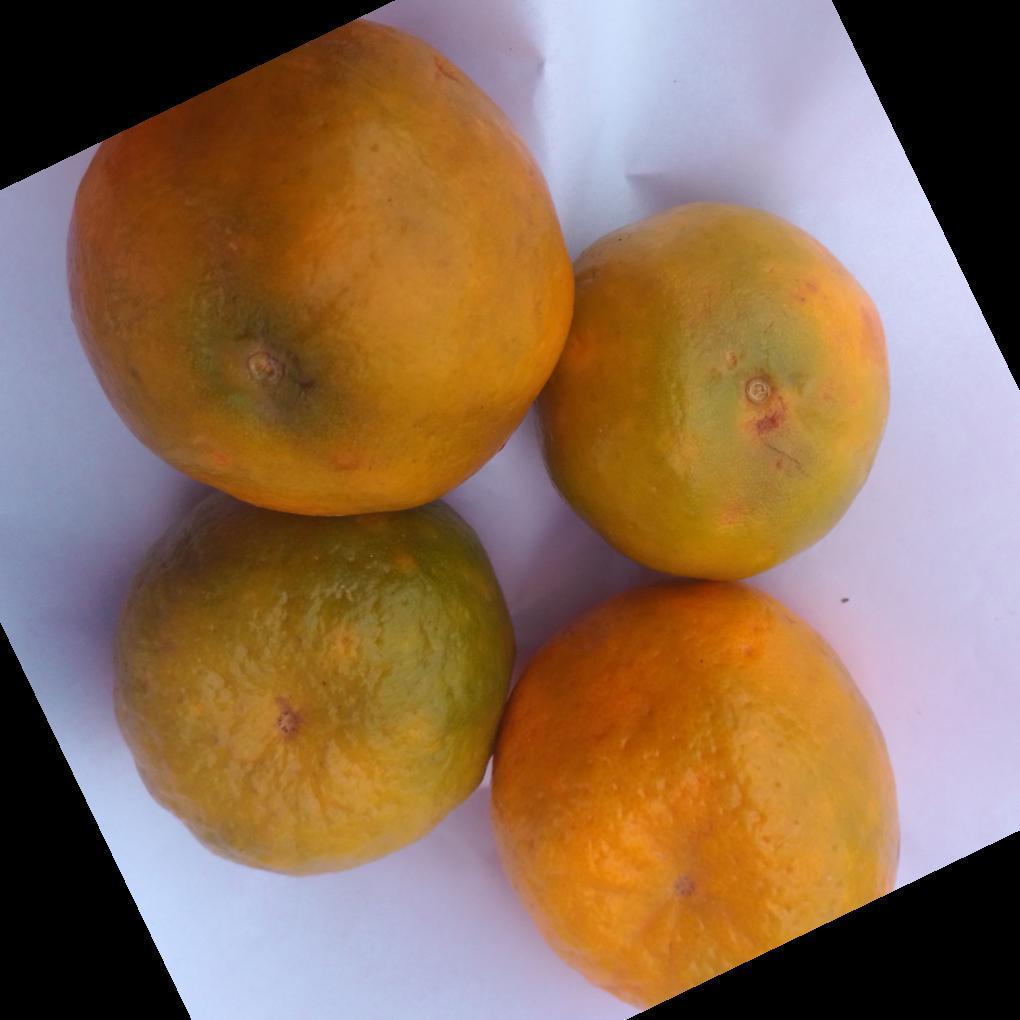FreshGuava: (68, 21, 901, 1013)
